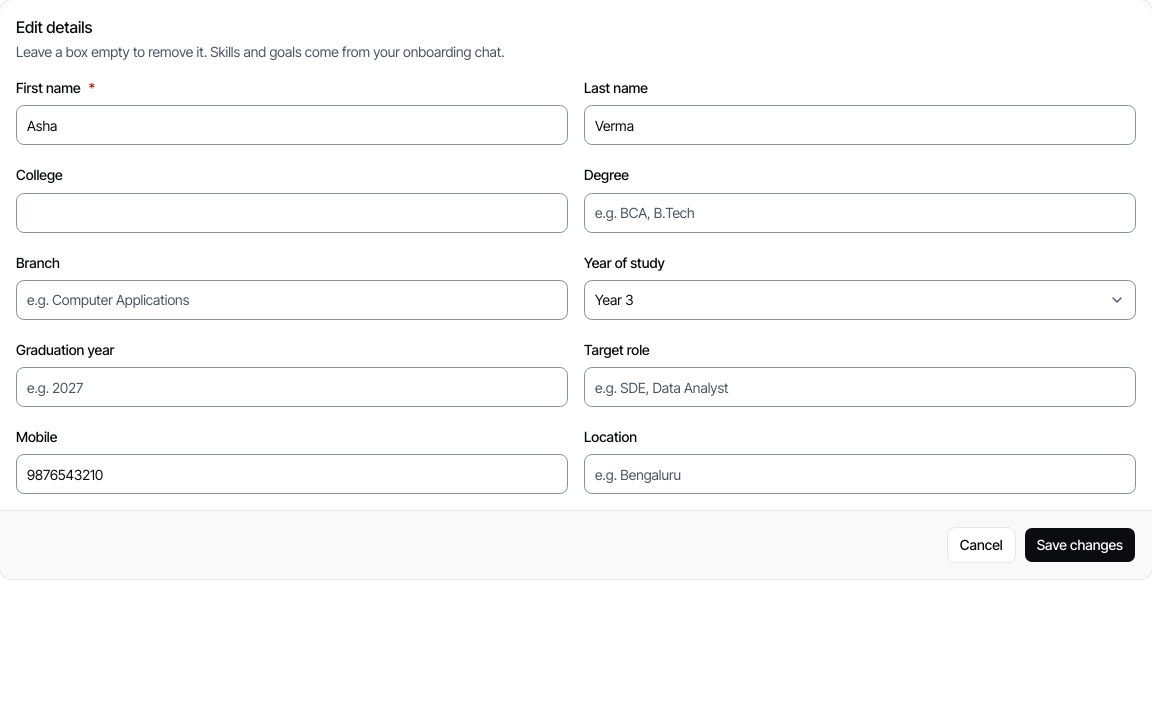
it: ProfileForm › shows a 422 for a field the form doesn't show in the banner
Click the button "Save changes" at (1080, 545), box [1024,527,1136,563]
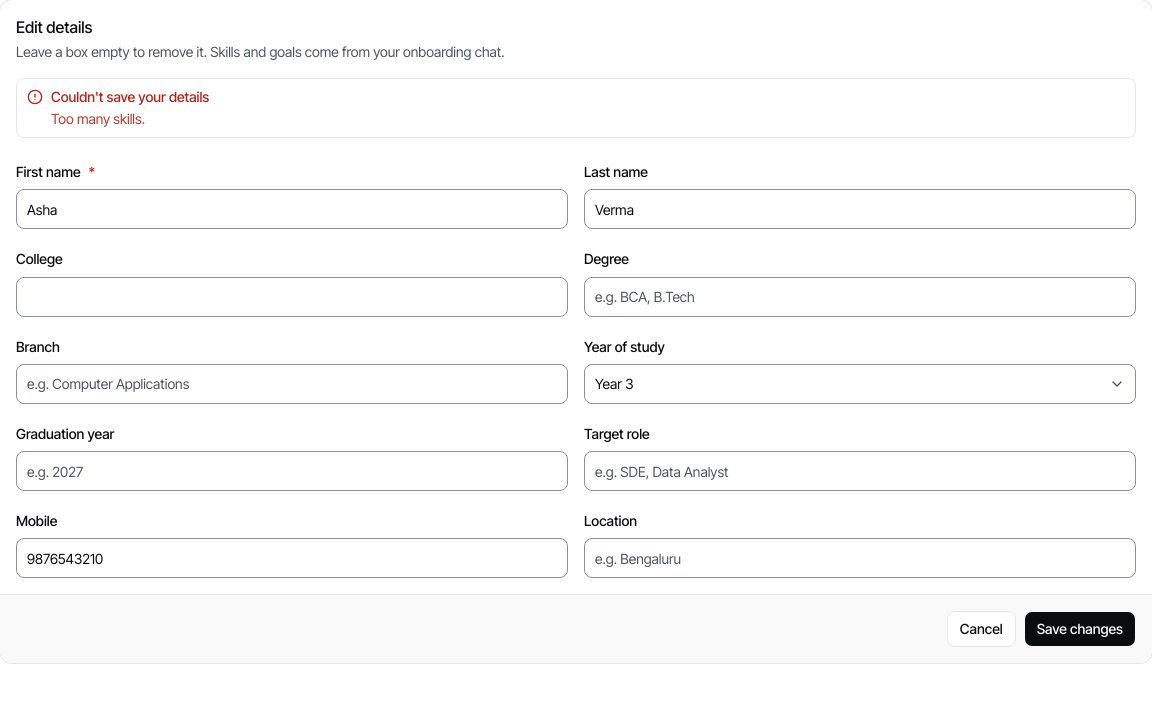
Expected: the text "Couldn't save your details" is shown, [51,88,209,105]
Expected: the text "Too many skills." is shown, [51,110,145,127]
